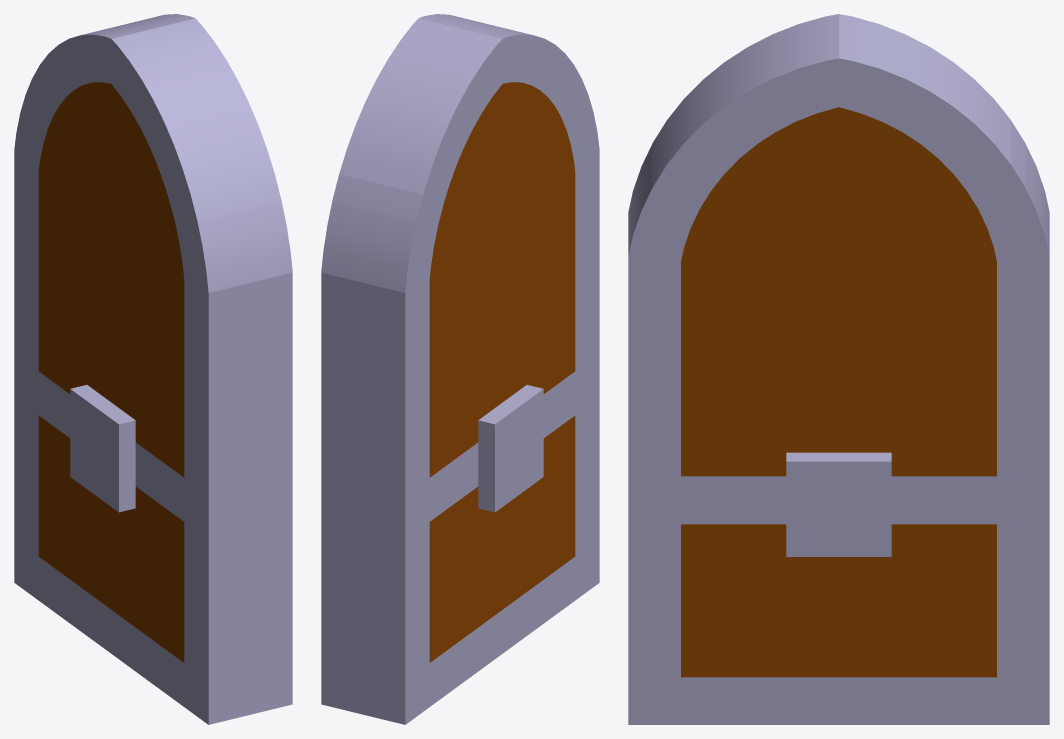
The model's file is door.fbx.
The picture shows the model from 3 angles, left to right: view 1: azimuth 30°, elevation 25°; view 2: azimuth 150°, elevation 25°; view 3: azimuth 270°, elevation 25°; orthographic projection. The views are drawn at different scales.
Parts seen in each view (by area): view 1: mergedBlocks; view 2: mergedBlocks; view 3: mergedBlocks.
Boxes of the visible parts, x1=… form: mergedBlocks: x1=14, y1=14, x2=292, y2=724; mergedBlocks: x1=321, y1=14, x2=599, y2=724; mergedBlocks: x1=628, y1=14, x2=1049, y2=724.
Size of the model in its own units: 1.4 by 6.98 by 4.
